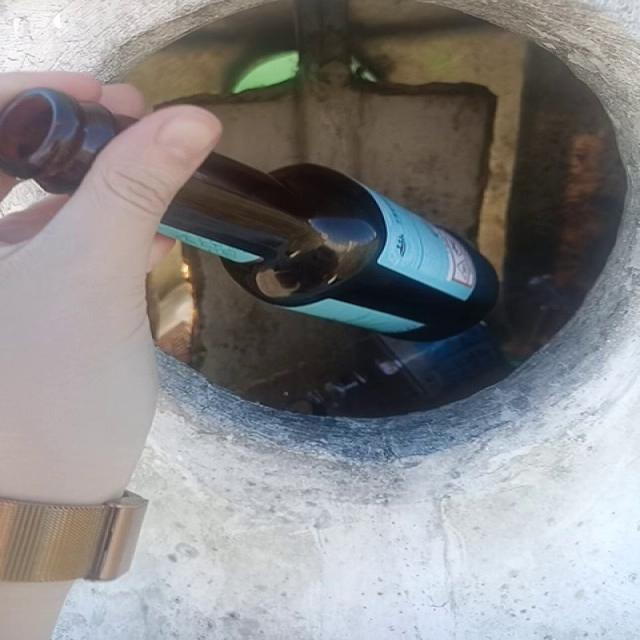glass: (159, 154, 499, 340), (1, 89, 128, 191)
